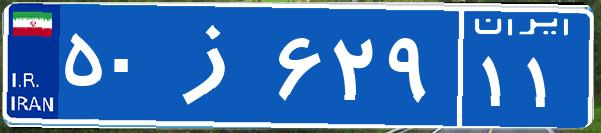0: (110, 28, 158, 105)
1: (475, 38, 525, 113), (525, 38, 570, 115)
2: (330, 28, 385, 110)
5: (57, 26, 110, 107)
6: (273, 28, 330, 110)
9: (385, 28, 445, 110)
ز: (158, 15, 273, 115)
